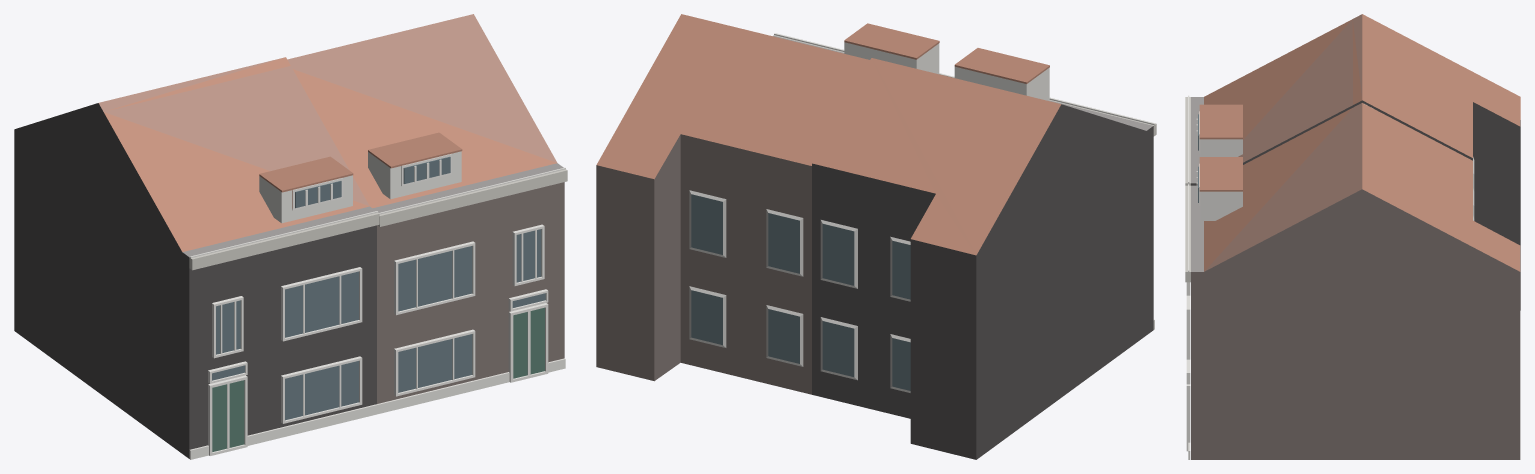
Rendered from chunk-face-kalkoen-8-16-r1.lod2.glb.
3 renders of one model, left to right at view 1: azimuth 30°, elevation 25°; view 2: azimuth 150°, elevation 25°; view 3: azimuth 270°, elevation 25°, orthographic. The views are drawn at different scales.
Visible parts, largest first — view 1: lod2; view 2: lod2; view 3: lod2.
Boxes of the visible parts, left/top/right/bottom form: lod2: left=14, top=14, right=567, bottom=459; lod2: left=596, top=14, right=1156, bottom=459; lod2: left=1185, top=14, right=1520, bottom=459.
Bounding box in the file's own units: 12.57 × 9.27 × 10.32.
